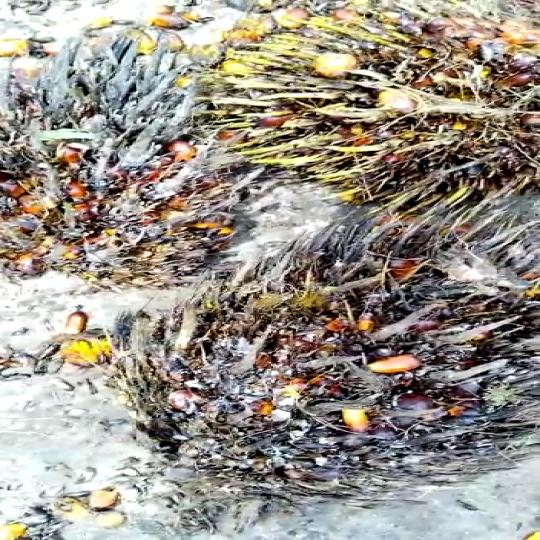terlalu masak: (117, 249, 535, 490), (153, 6, 540, 206), (0, 65, 301, 280)
